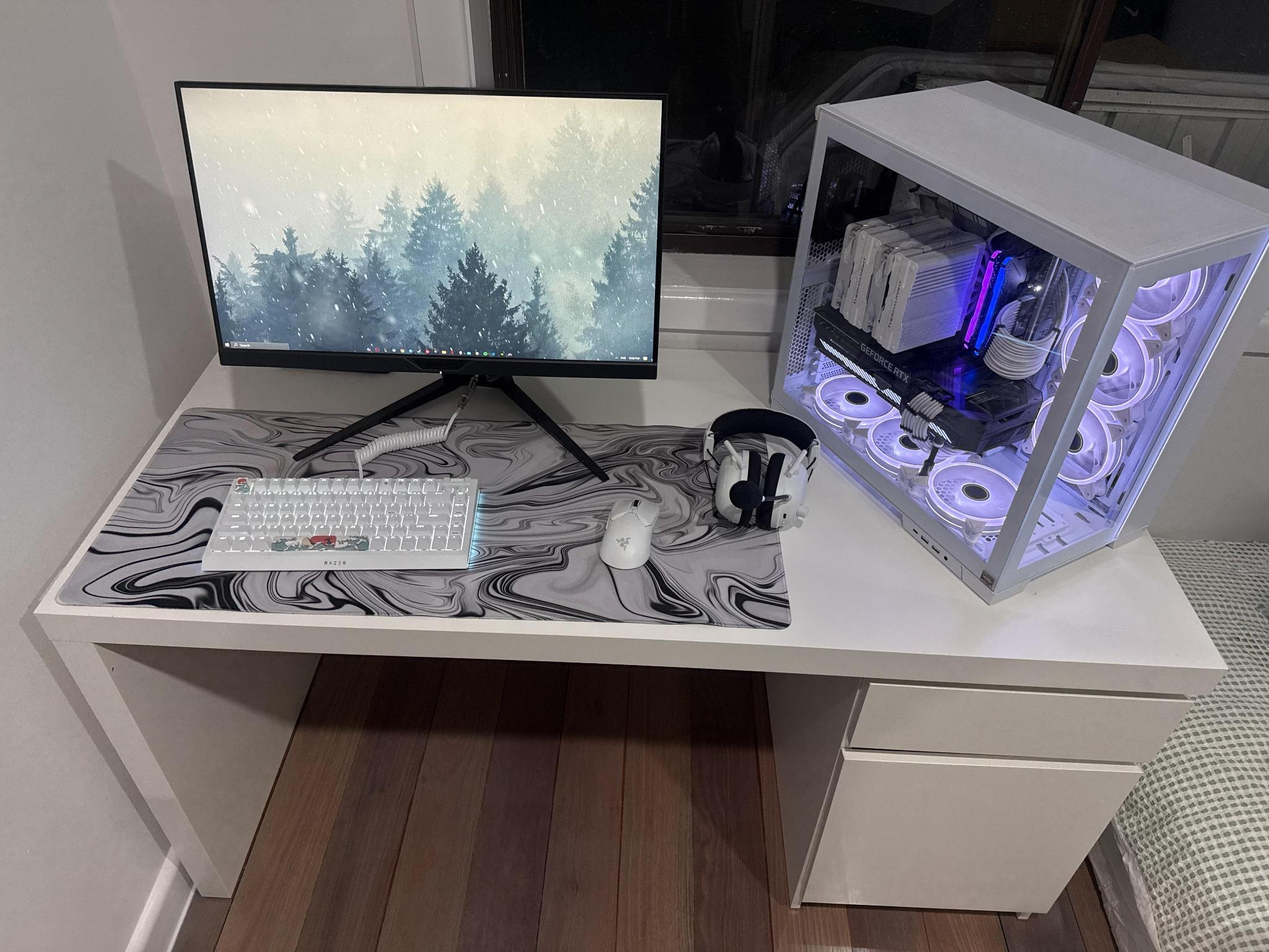keyboard: (205, 457, 491, 591)
monitor: (162, 60, 681, 396)
mouse: (593, 479, 668, 583)
pc: (754, 59, 1269, 624)
